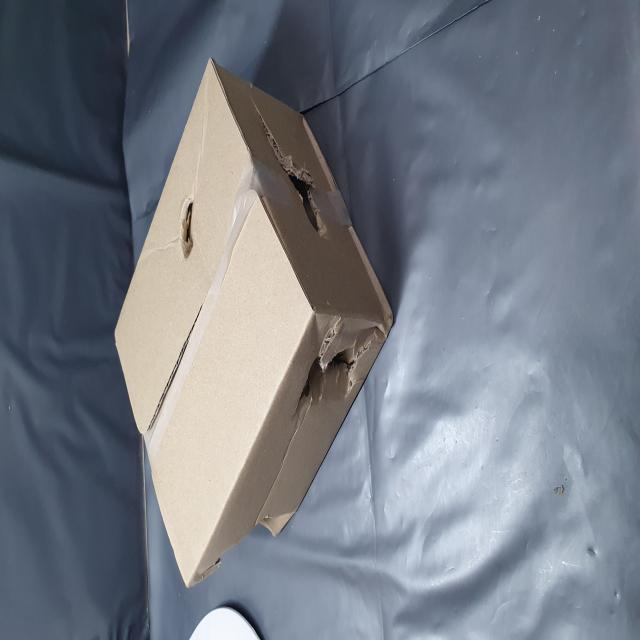damaged: (134, 533, 177, 640), (216, 516, 278, 586), (208, 316, 256, 361)
